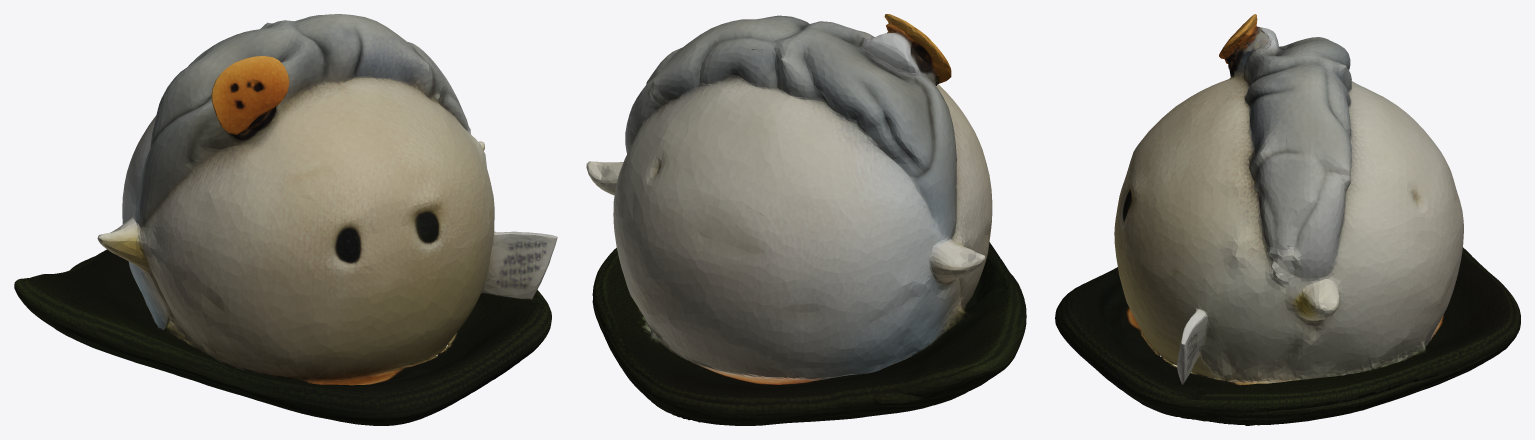
3 views of the same model, side by side, from view 1: azimuth 30°, elevation 25°; view 2: azimuth 150°, elevation 25°; view 3: azimuth 270°, elevation 25° (orthographic). The views are drawn at different scales.
Visible parts, largest first — view 1: world; view 2: world; view 3: world.
Boxes of the visible parts, bbox=[...] form: world: bbox=[14, 14, 557, 425]; world: bbox=[586, 14, 1026, 425]; world: bbox=[1055, 14, 1520, 425].
Bounding box in the file's own units: 0.2497 × 0.1775 × 0.2495.
Materials: 1 (1 with a texture image).
